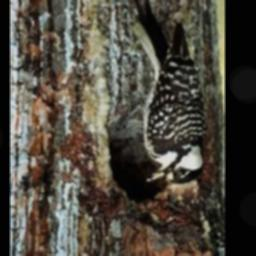Woodpecker: (128, 0, 205, 188)
